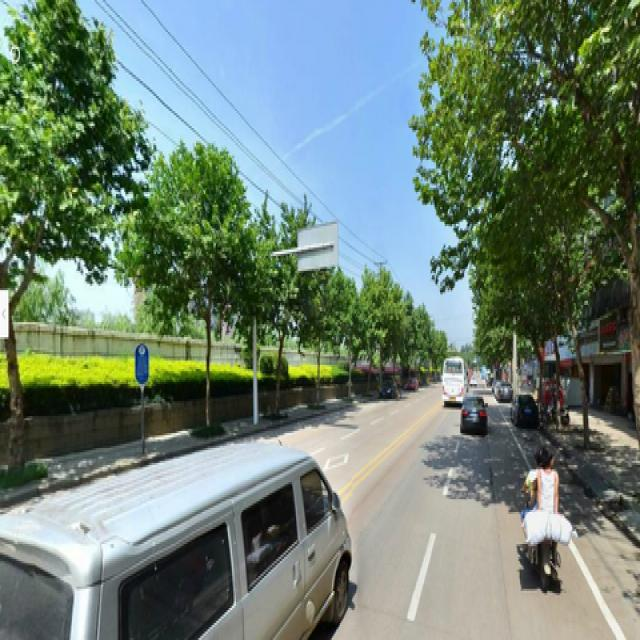meta: (152, 160, 231, 429)
